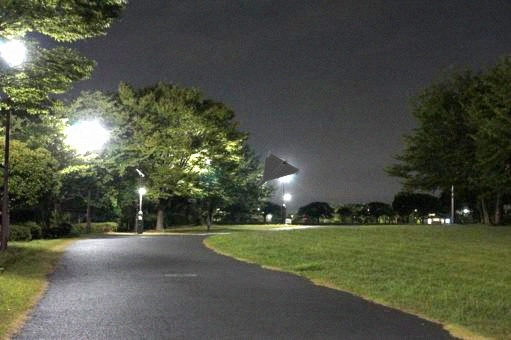shahed: (257, 150, 299, 187)
